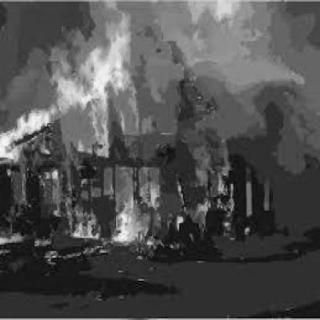Fire: (0, 1, 272, 260)
